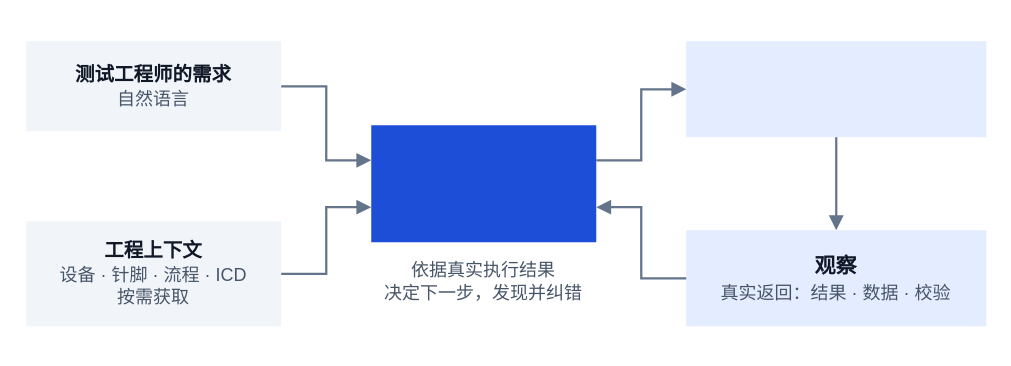
This 1011x366 diagram has some shape labels left out. Here are the shapes that lost their labels. From the top down, the centre of each, then its label:
At pixel 836 88: "行动 经 MCP 网关调用平台/设备工具".
At pixel 483 183: "思考 大模型推理下一步".
